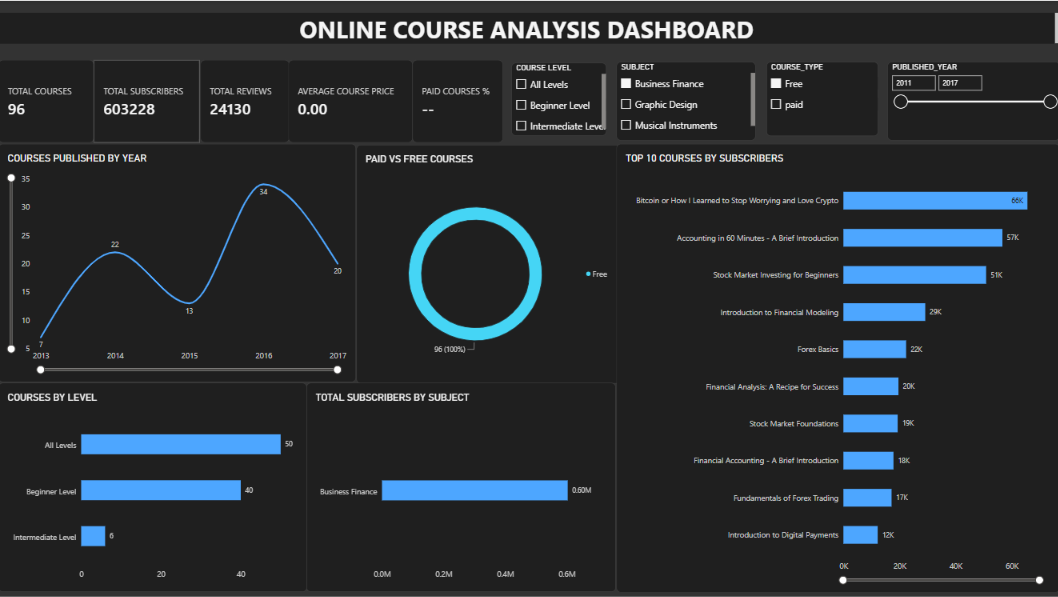

The dashboard page shown, as its layout file describes it:
{"tool":"powerbi","page":{"name":"Page 1","canvas":[1920,1080],"ordinal":0},"visuals":[{"type":"cardVisual","fields":{"Data":["CLEANED DATA.TOTAL COURSES"]},"box":[0,107.5,173.3,150],"z":0},{"type":"cardVisual","fields":{"Data":["CLEANED DATA.TOTAL SUBSCRIBERS"]},"box":[172.5,107.5,193.3,150],"z":1000},{"type":"cardVisual","fields":{"Data":["CLEANED DATA.TOTAL REVIEWS"]},"box":[365,107.5,161,150],"z":2000},{"type":"cardVisual","fields":{"Data":["CLEANED DATA.AVERAGE COURSE PRICE"]},"box":[525,107.5,225,150],"z":3000},{"type":"slicer","title":"COURSE LEVEL","fields":{"Values":["CLEANED DATA.LEVEL"]},"box":[928,112,172,132],"z":4000},{"type":"cardVisual","fields":{"Data":["CLEANED DATA.PAID COURSES %"]},"box":[750,107.5,164.3,150],"z":5000},{"type":"lineChart","title":"COURSES PUBLISHED BY YEAR","fields":{"Category":["CLEANED DATA.PUBLISHED_YEAR"],"Y":["CountNonNull(CLEANED DATA.COURSE_ID)"]},"box":[0,258,647.1,431.4],"z":6000},{"type":"donutChart","title":"PAID VS FREE COURSES","fields":{"Category":["CLEANED DATA.COURSE_TYPE"],"Y":["CountNonNull(CLEANED DATA.COURSE_TYPE)"]},"box":[648,260,480,432],"z":7000},{"type":"barChart","title":"COURSES BY LEVEL","fields":{"Category":["CLEANED DATA.LEVEL"],"Y":["CountNonNull(CLEANED DATA.COURSE_ID)"]},"box":[0,692,558,378],"z":8000},{"type":"barChart","title":"TOTAL SUBSCRIBERS BY SUBJECT","fields":{"Category":["CLEANED DATA.SUBJECT"],"Y":["Sum(CLEANED DATA.NUM_SUBSCRIBERS)"]},"box":[558,692,560,378.6],"z":9000},{"type":"barChart","title":"TOP 10 COURSES BY SUBSCRIBERS","fields":{"Category":["CLEANED DATA.COURSE_TITLE"],"Y":["Sum(CLEANED DATA.NUM_SUBSCRIBERS)"]},"box":[1118,258,802,812],"z":10000},{"type":"textbox","box":[0,22,1920,56],"z":11000},{"type":"slicer","fields":{"Values":["CLEANED DATA.SUBJECT"]},"box":[1118,110,252,142],"z":12000},{"type":"slicer","fields":{"Values":["CLEANED DATA.COURSE_TYPE"]},"box":[1390,110,202,134],"z":13000},{"type":"slicer","fields":{"Values":["CLEANED DATA.PUBLISHED_YEAR"]},"box":[1608,110,312,142],"z":14000}]}

Visuals, with their boxes in screenshot pixels (x1, y1, x2, y2), scaled from the page's 1920x1080 canvas onto the 1058x597 screenshot:
cardVisual - CLEANED DATA.TOTAL COURSES: bbox=(0, 59, 95, 142)
cardVisual - CLEANED DATA.TOTAL SUBSCRIBERS: bbox=(95, 59, 202, 142)
cardVisual - CLEANED DATA.TOTAL REVIEWS: bbox=(201, 59, 290, 142)
cardVisual - CLEANED DATA.AVERAGE COURSE PRICE: bbox=(289, 59, 413, 142)
"COURSE LEVEL" slicer: bbox=(511, 62, 606, 135)
cardVisual - CLEANED DATA.PAID COURSES %: bbox=(413, 59, 504, 142)
"COURSES PUBLISHED BY YEAR" lineChart: bbox=(0, 143, 357, 381)
"PAID VS FREE COURSES" donutChart: bbox=(357, 144, 622, 383)
"COURSES BY LEVEL" barChart: bbox=(0, 383, 307, 591)
"TOTAL SUBSCRIBERS BY SUBJECT" barChart: bbox=(307, 383, 616, 592)
"TOP 10 COURSES BY SUBSCRIBERS" barChart: bbox=(616, 143, 1057, 591)
textbox: bbox=(0, 12, 1057, 43)
slicer - CLEANED DATA.SUBJECT: bbox=(616, 61, 755, 139)
slicer - CLEANED DATA.COURSE_TYPE: bbox=(766, 61, 877, 135)
slicer - CLEANED DATA.PUBLISHED_YEAR: bbox=(886, 61, 1057, 139)
